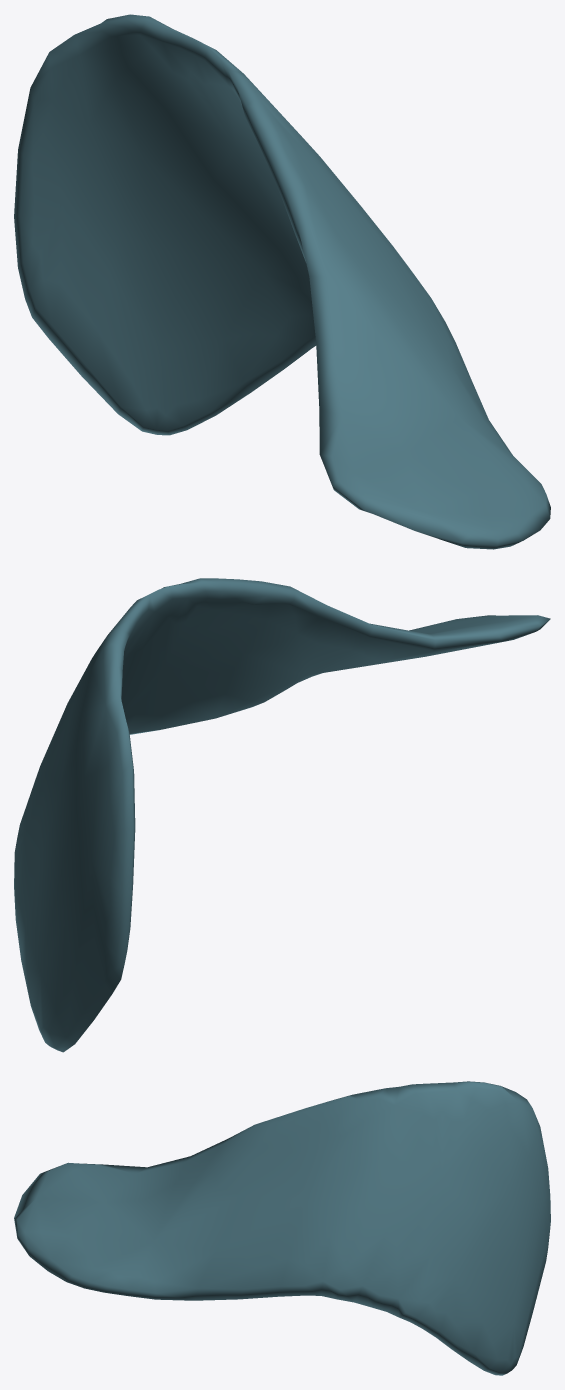
The model's file is Biceps_femoris_long_head_fibular_head_left.glb.
3 views of the same model, one above another, from view 1: azimuth 30°, elevation 25°; view 2: azimuth 150°, elevation 25°; view 3: azimuth 270°, elevation 25° (orthographic). The views are drawn at different scales.
Visible parts, largest first — view 1: Long_head_of_biceps_femoris_on_fibular_head.l_Generated_Mesh; view 2: Long_head_of_biceps_femoris_on_fibular_head.l_Generated_Mesh; view 3: Long_head_of_biceps_femoris_on_fibular_head.l_Generated_Mesh.
Boxes of the visible parts, box(x1,y1,x2,y2) form: Long_head_of_biceps_femoris_on_fibular_head.l_Generated_Mesh: box(14, 14, 550, 549); Long_head_of_biceps_femoris_on_fibular_head.l_Generated_Mesh: box(14, 578, 550, 1052); Long_head_of_biceps_femoris_on_fibular_head.l_Generated_Mesh: box(14, 1081, 550, 1375).
Bounding box in the file's own units: 0.0073 × 0.0102 × 0.0177.
